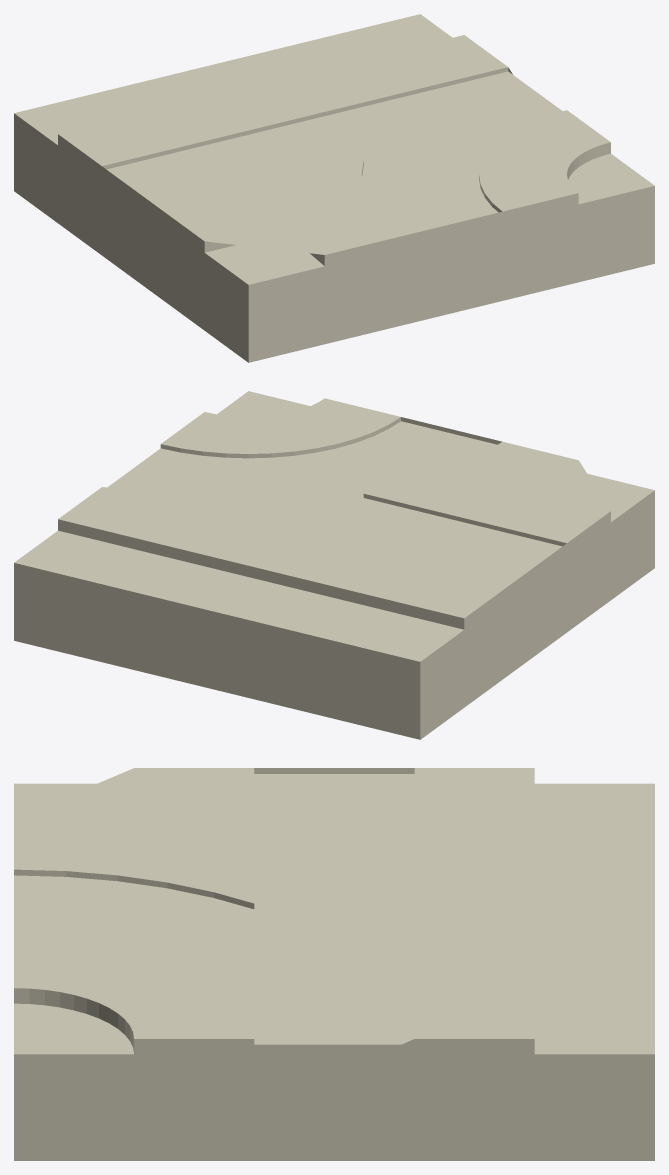
Rendered from roadtile_033.glb.
3 renders of one model, top to bottom at view 1: azimuth 30°, elevation 25°; view 2: azimuth 150°, elevation 25°; view 3: azimuth 270°, elevation 25°, orthographic. The views are drawn at different scales.
Parts seen in each view (by area): view 1: Mesh1 Group1 Model; view 2: Mesh1 Group1 Model; view 3: Mesh1 Group1 Model.
Part boxes in pixels (<box>): Mesh1 Group1 Model: <box>14,14,654,362</box>; Mesh1 Group1 Model: <box>14,391,654,739</box>; Mesh1 Group1 Model: <box>14,768,654,1160</box>.
Bounding box in the file's own units: 3 × 0.63 × 3.
